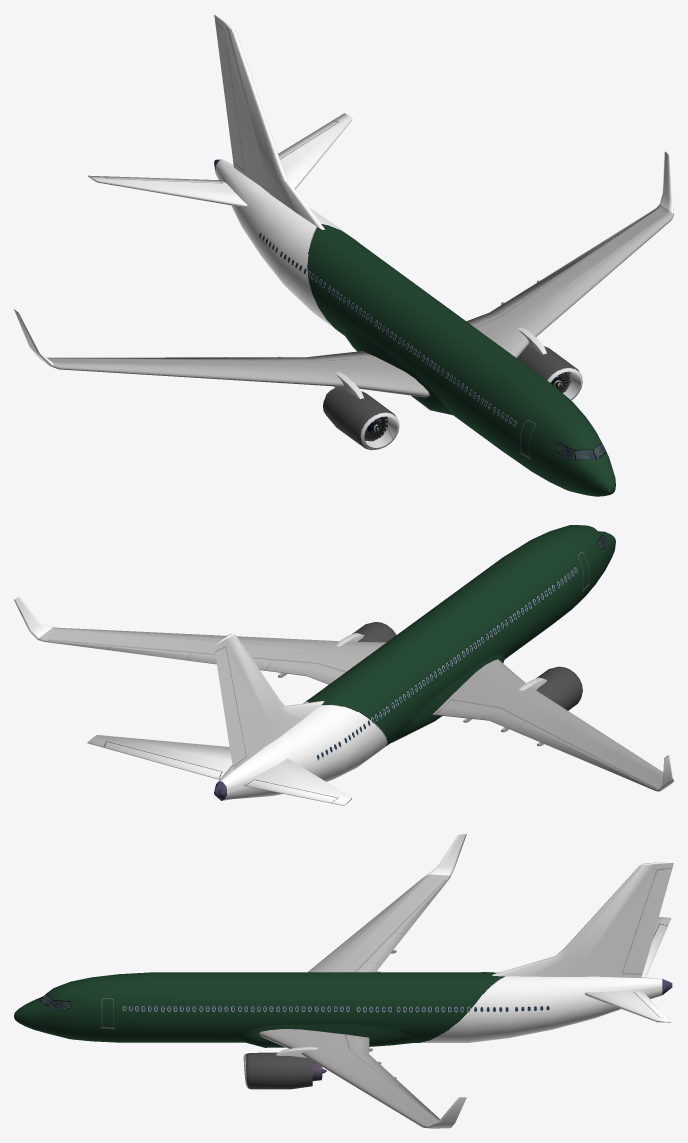
3 renders of one model, top to bottom at view 1: azimuth 30°, elevation 25°; view 2: azimuth 150°, elevation 25°; view 3: azimuth 270°, elevation 25°, orthographic. The views are drawn at different scales.
Parts seen in each view (by area): view 1: B737; view 2: B737; view 3: B737.
Part boxes in pixels (box(x1,y1,x2,y2)): B737: box(14, 14, 673, 496); B737: box(14, 525, 673, 805); B737: box(14, 834, 673, 1128).
Size of the model in its own units: 37.27 by 12.39 by 39.5.
Materials: 1 (1 with a texture image).
